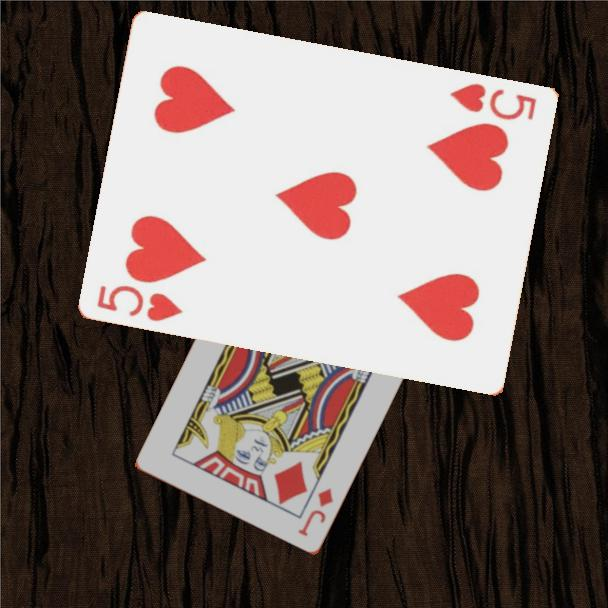d11: (295, 485, 336, 540)
h05: (446, 79, 540, 123), (94, 281, 186, 324)
